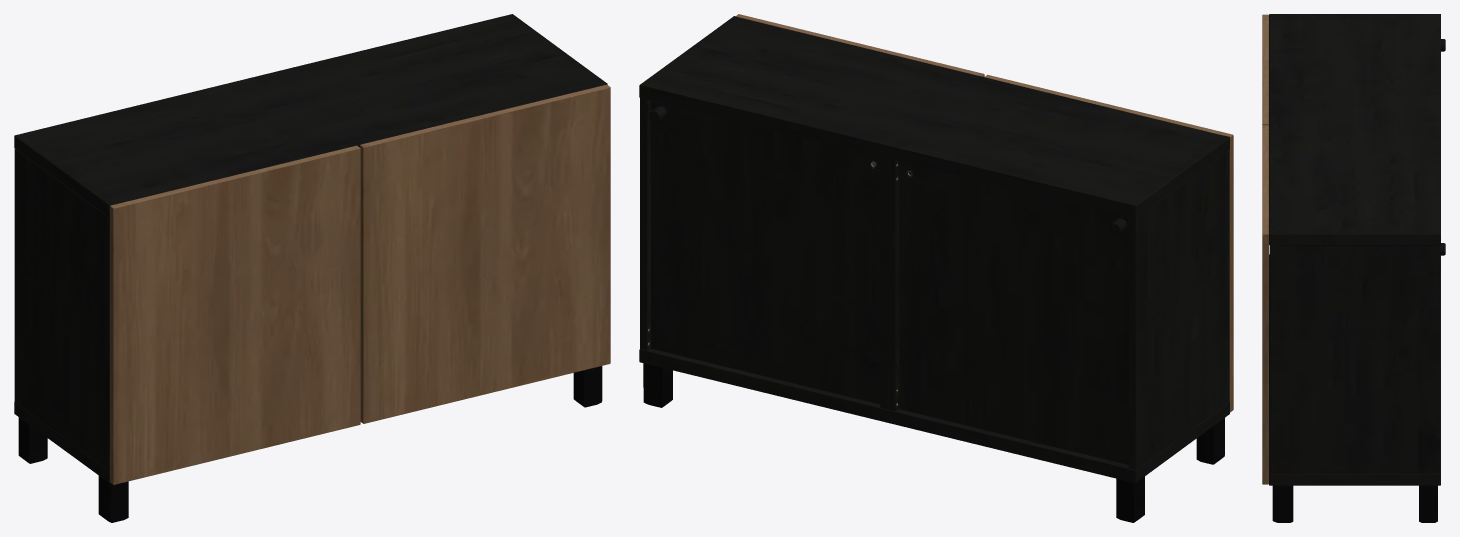
Rendered from Comoda.fbx.
3 renders of one model, left to right at view 1: azimuth 30°, elevation 25°; view 2: azimuth 150°, elevation 25°; view 3: azimuth 270°, elevation 25°, orthographic. The views are drawn at different scales.
Parts seen in each view (by area): view 1: 09612190_storage_combination_with_doors001; view 2: 09612190_storage_combination_with_doors001; view 3: 09612190_storage_combination_with_doors001.
Boxes of the visible parts, x1,y1,x2,y2 form: 09612190_storage_combination_with_doors001: [14, 14, 610, 522]; 09612190_storage_combination_with_doors001: [639, 14, 1233, 522]; 09612190_storage_combination_with_doors001: [1262, 14, 1445, 522].
Bounding box in the file's own units: 1.2 × 0.7403 × 0.4228.
1 material, 1 textured.
